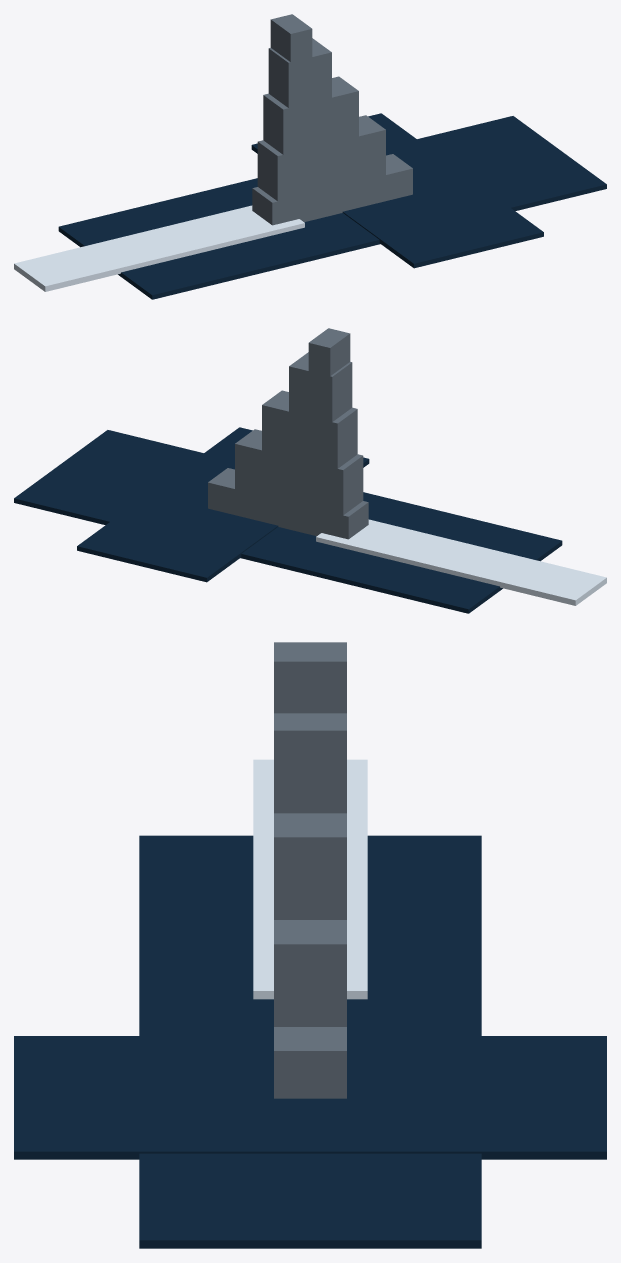
The model's file is aleta_tiburon.obj.
3 renders of one model, top to bottom at view 1: azimuth 30°, elevation 25°; view 2: azimuth 150°, elevation 25°; view 3: azimuth 270°, elevation 25°, orthographic. The views are drawn at different scales.
Visible parts, largest first — view 1: aleta_tiburon; view 2: aleta_tiburon; view 3: aleta_tiburon.
Part boxes in pixels (bbox=[...]): aleta_tiburon: bbox=[14, 14, 606, 299]; aleta_tiburon: bbox=[14, 328, 606, 613]; aleta_tiburon: bbox=[14, 642, 606, 1248].
Bounding box in the file's own units: 4.9 × 1.75 × 2.6.
